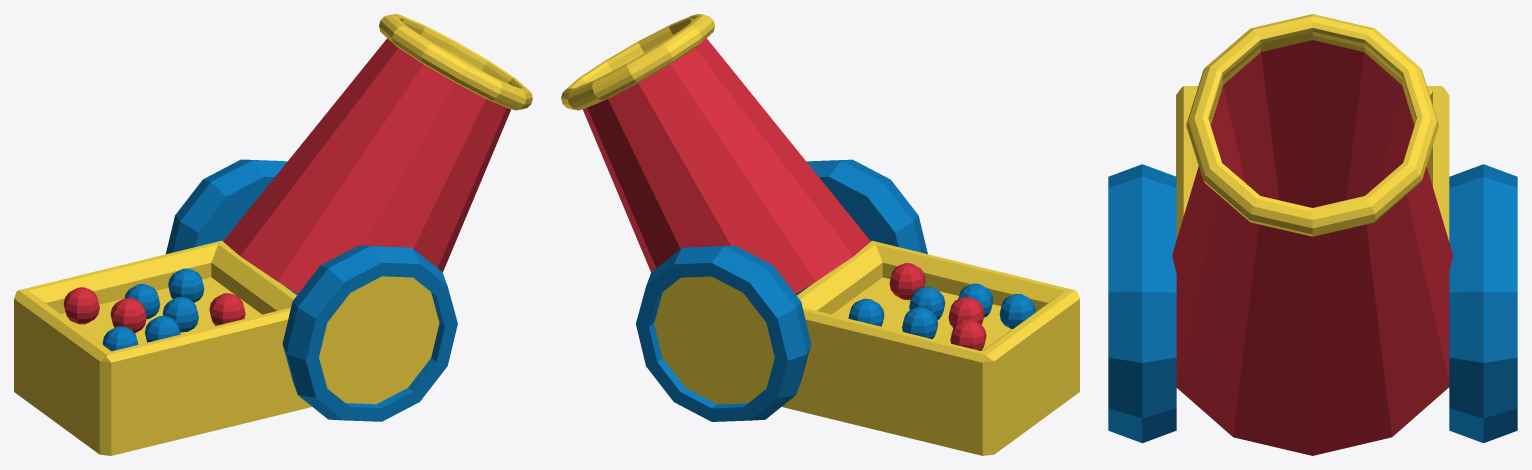
Rendered from toyCannon 1.fbx.
3 renders of one model, left to right at view 1: azimuth 30°, elevation 25°; view 2: azimuth 150°, elevation 25°; view 3: azimuth 270°, elevation 25°, orthographic. The views are drawn at different scales.
Visible parts, largest first — view 1: Cylinder.005, Cylinder.001, Cylinder.032, Cylinder.033, Cylinder.031, Cylinder.002, Cylinder.025, Cylinder.030, Cylinder.029, Cylinder.008, Torus.003, Cylinder.011 (+10 smaller); view 2: Cylinder.005, Cylinder.002, Cylinder.024, Cylinder.025, Cylinder.023, Cylinder.001, Cylinder.033, Cylinder.022, Cylinder.026, Torus.006, Cylinder.007, Torus.007 (+10 smaller); view 3: Cylinder.002, Cylinder.001, Cylinder.027, Cylinder.028, Cylinder.026, Cylinder.029, Cylinder.025, Cylinder.033, Cylinder.024, Cylinder.032, Cylinder.005, Cylinder.022 (+15 smaller).
Part boxes in pixels (bbox=[...]): Cylinder.005: bbox=[14, 240, 311, 455]; Cylinder.001: bbox=[282, 245, 457, 421]; Cylinder.032: bbox=[278, 64, 455, 293]; Cylinder.033: bbox=[240, 48, 423, 281]; Cylinder.031: bbox=[363, 83, 485, 248]; Cylinder.002: bbox=[166, 159, 297, 294]; Cylinder.025: bbox=[223, 38, 398, 255]; Cylinder.030: bbox=[413, 99, 506, 267]; Cylinder.029: bbox=[438, 108, 510, 272]; Cylinder.008: bbox=[63, 287, 99, 324]; Torus.003: bbox=[421, 44, 467, 82]; Cylinder.011: bbox=[110, 298, 146, 333]; Cylinder.005: bbox=[782, 240, 1079, 455]; Cylinder.002: bbox=[636, 245, 811, 421]; Cylinder.024: bbox=[638, 64, 815, 293]; Cylinder.025: bbox=[670, 48, 853, 281]; Cylinder.023: bbox=[608, 83, 730, 248]; Cylinder.001: bbox=[795, 159, 927, 295]; Cylinder.033: bbox=[695, 38, 870, 255]; Cylinder.022: bbox=[587, 99, 680, 267]; Cylinder.026: bbox=[583, 108, 655, 272]; Torus.006: bbox=[626, 44, 672, 82]; Cylinder.007: bbox=[889, 263, 925, 300]; Torus.007: bbox=[592, 63, 637, 100]; Cylinder.002: bbox=[1449, 164, 1517, 443]; Cylinder.001: bbox=[1108, 164, 1176, 443]; Cylinder.027: bbox=[1312, 224, 1391, 455]; Cylinder.028: bbox=[1233, 224, 1312, 455]; Cylinder.026: bbox=[1366, 195, 1449, 436]; Cylinder.029: bbox=[1176, 195, 1258, 436]; Cylinder.025: bbox=[1312, 40, 1364, 207]; Cylinder.033: bbox=[1261, 40, 1312, 207]; Cylinder.024: bbox=[1346, 52, 1402, 200]; Cylinder.032: bbox=[1223, 52, 1279, 200]; Cylinder.005: bbox=[1176, 86, 1449, 241]; Cylinder.022: bbox=[1406, 166, 1452, 381].
Size of the model in its own units: 978 by 666 by 516.
